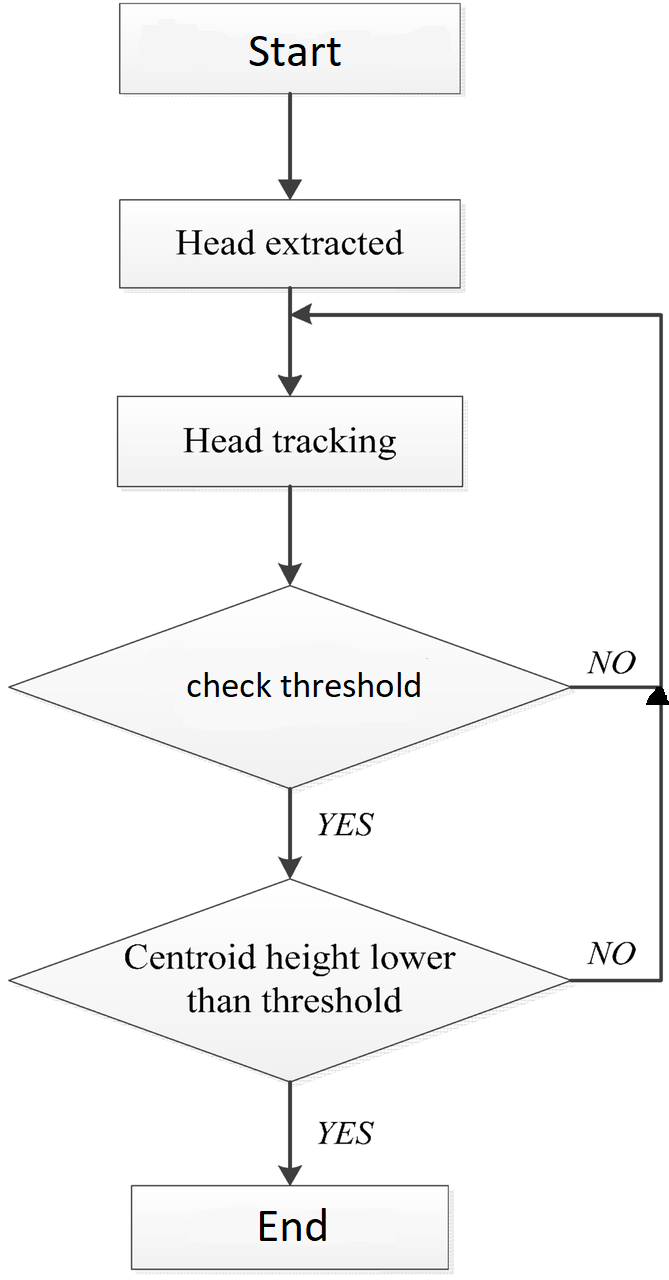arrow: (291, 302, 665, 682), (571, 682, 669, 991), (276, 95, 304, 195), (282, 289, 306, 399), (278, 491, 304, 586), (278, 1082, 302, 1182), (280, 786, 304, 876)
decision: (8, 882, 572, 1084), (8, 588, 574, 786)
process: (112, 389, 471, 491), (114, 3, 469, 99), (114, 197, 465, 291), (125, 1180, 455, 1270)
text: (123, 941, 457, 1015), (182, 420, 402, 465), (188, 670, 427, 708), (176, 226, 408, 262), (245, 30, 343, 75), (253, 1208, 331, 1245), (314, 810, 384, 843), (314, 1114, 378, 1149), (585, 640, 634, 679), (582, 939, 639, 970)
